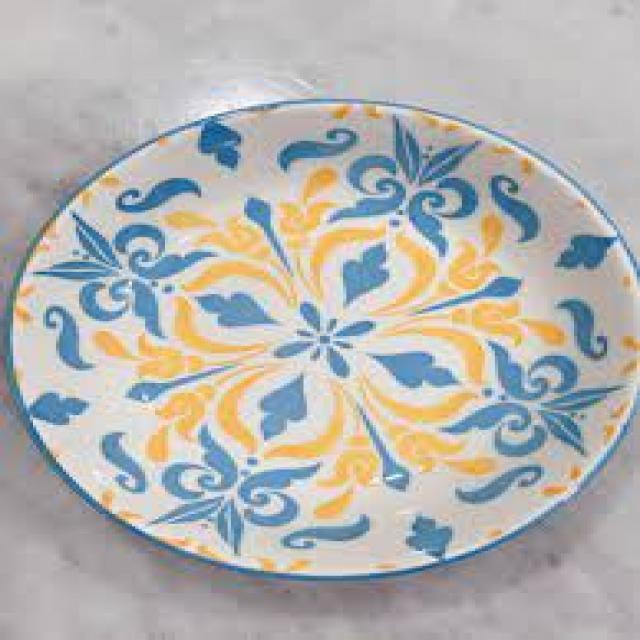plate: (16, 99, 640, 583)
